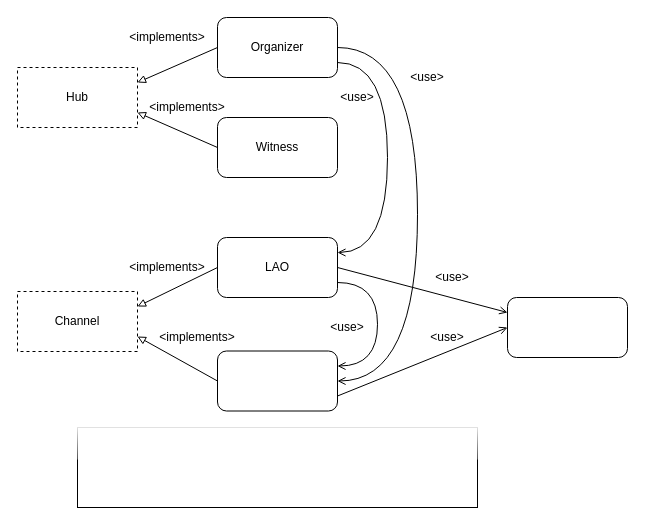
This 645x525 diagram has some shape labels left out. Here are the shapes that lost their labels. From the top down, the centre of each, then its label:
the point at 567,327: inbox
the point at 277,380: Election
the point at 277,467: Network / Socket
